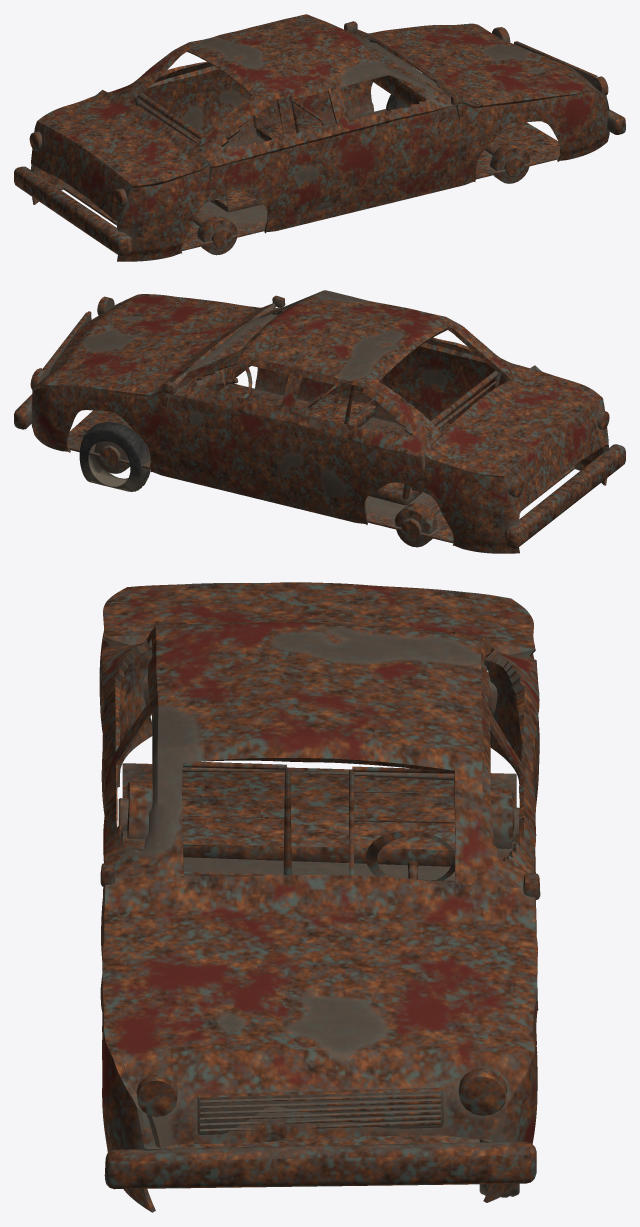
Rendered from SM_WreckedCar_Body.fbx.
3 renders of one model, top to bottom at view 1: azimuth 30°, elevation 25°; view 2: azimuth 150°, elevation 25°; view 3: azimuth 270°, elevation 25°, orthographic. The views are drawn at different scales.
Visible parts, largest first — view 1: WreckedCar_Body; view 2: WreckedCar_Body; view 3: WreckedCar_Body.
Part boxes in pixels (x1=…): WreckedCar_Body: x1=14, y1=14, x2=625, y2=261; WreckedCar_Body: x1=14, y1=290, x2=625, y2=553; WreckedCar_Body: x1=99, y1=582, x2=540, y2=1212.
Size of the model in its own units: 1.79 by 4.76 by 1.44.
Materials: 1 (1 with a texture image).
